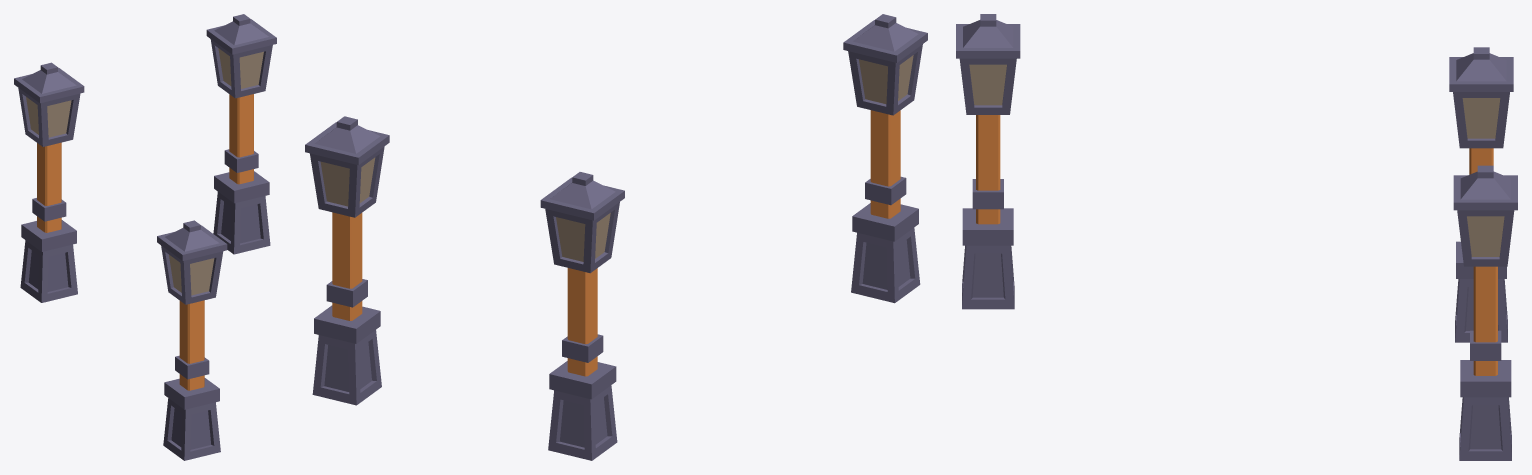
File: poleLights.glb
3 renders of one model, left to right at view 1: azimuth 30°, elevation 25°; view 2: azimuth 150°, elevation 25°; view 3: azimuth 270°, elevation 25°, orthographic. The views are drawn at different scales.
Visible parts, largest first — view 1: poleLightMetal.002, poleLightMetal.003, poleLightMetal.001, poleLightWood.003, poleLightWood.001, poleLightWood.002, poleLightEmissive.001, poleLightEmissive.002, poleLightEmissive.003; view 2: poleLightMetal.002, poleLightMetal.001, poleLightMetal.003, poleLightWood.003, poleLightWood.001, poleLightWood.002, poleLightEmissive.001, poleLightEmissive.002, poleLightEmissive.003; view 3: poleLightMetal.003, poleLightMetal.001, poleLightMetal.002, poleLightWood.001, poleLightWood.003, poleLightEmissive.003, poleLightEmissive.001, poleLightEmissive.002.
Part boxes in pixels (bbox=[...]): poleLightMetal.002: bbox=[14, 62, 84, 302]; poleLightMetal.003: bbox=[157, 220, 227, 460]; poleLightMetal.001: bbox=[206, 14, 276, 254]; poleLightWood.003: bbox=[179, 300, 204, 390]; poleLightWood.001: bbox=[229, 94, 253, 184]; poleLightWood.002: bbox=[37, 142, 61, 232]; poleLightEmissive.001: bbox=[218, 48, 263, 88]; poleLightEmissive.002: bbox=[26, 97, 71, 137]; poleLightEmissive.003: bbox=[169, 255, 214, 295]; poleLightMetal.002: bbox=[540, 172, 624, 460]; poleLightMetal.001: bbox=[305, 116, 389, 405]; poleLightMetal.003: bbox=[843, 14, 927, 303]; poleLightWood.003: bbox=[870, 110, 900, 218]; poleLightWood.001: bbox=[332, 212, 362, 320]; poleLightWood.002: bbox=[567, 268, 597, 376]; poleLightEmissive.001: bbox=[320, 157, 375, 206]; poleLightEmissive.002: bbox=[556, 213, 610, 261]; poleLightEmissive.003: bbox=[859, 55, 913, 103]; poleLightMetal.003: bbox=[956, 14, 1020, 309]; poleLightMetal.001: bbox=[1453, 165, 1517, 460]; poleLightMetal.002: bbox=[1449, 47, 1513, 342]; poleLightWood.001: bbox=[1473, 266, 1497, 375]; poleLightWood.003: bbox=[976, 115, 1000, 224]; poleLightEmissive.003: bbox=[969, 64, 1006, 105]; poleLightEmissive.001: bbox=[1467, 216, 1504, 256]; poleLightEmissive.002: bbox=[1462, 98, 1500, 138].
Size of the model in its own units: 4.87 by 3.56 by 6.46.
